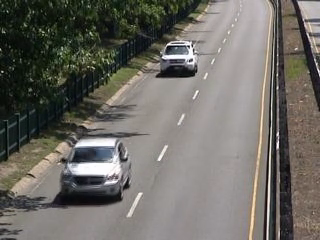car: (57, 133, 137, 204), (156, 37, 203, 79)
